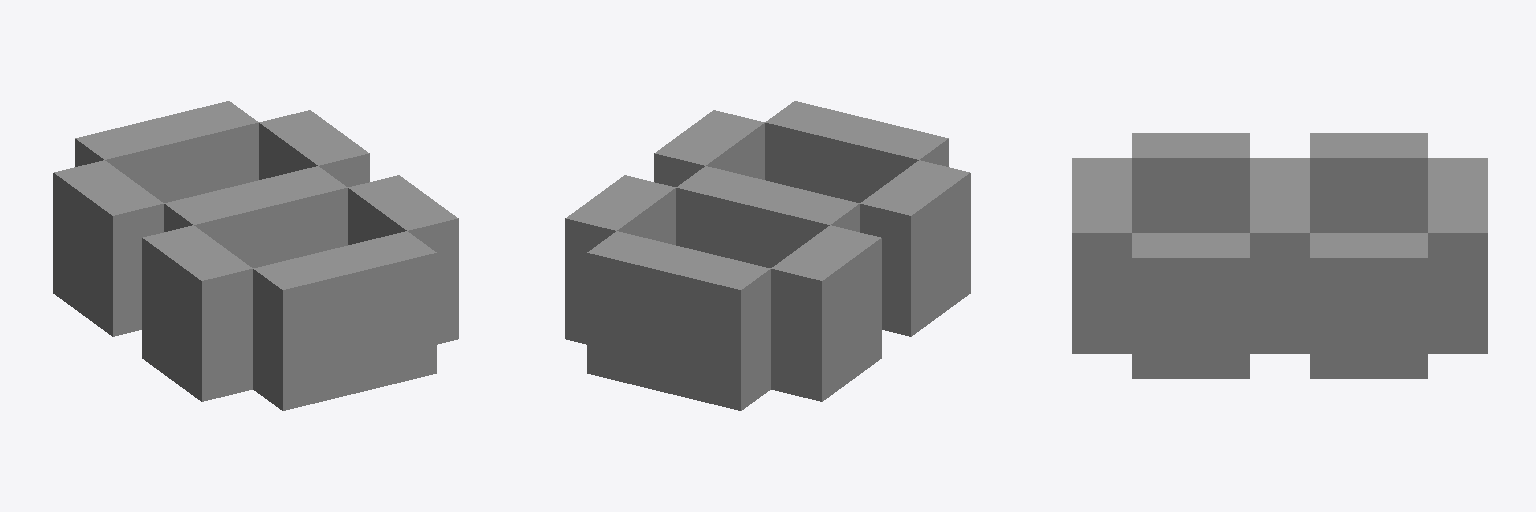
3 views of the same model, side by side, from view 1: azimuth 30°, elevation 25°; view 2: azimuth 150°, elevation 25°; view 3: azimuth 270°, elevation 25° (orthographic).
Parts seen in each view (by area): view 1: 8_CUABC.035; view 2: 8_CUABC.035; view 3: 8_CUABC.035.
Part boxes in pixels (x1,y1,x2,y2): 8_CUABC.035: (53,101,458,410); 8_CUABC.035: (565,101,970,410); 8_CUABC.035: (1072,133,1487,378).
Bounding box in the file's own units: 0.5556 × 0.25 × 0.7778.